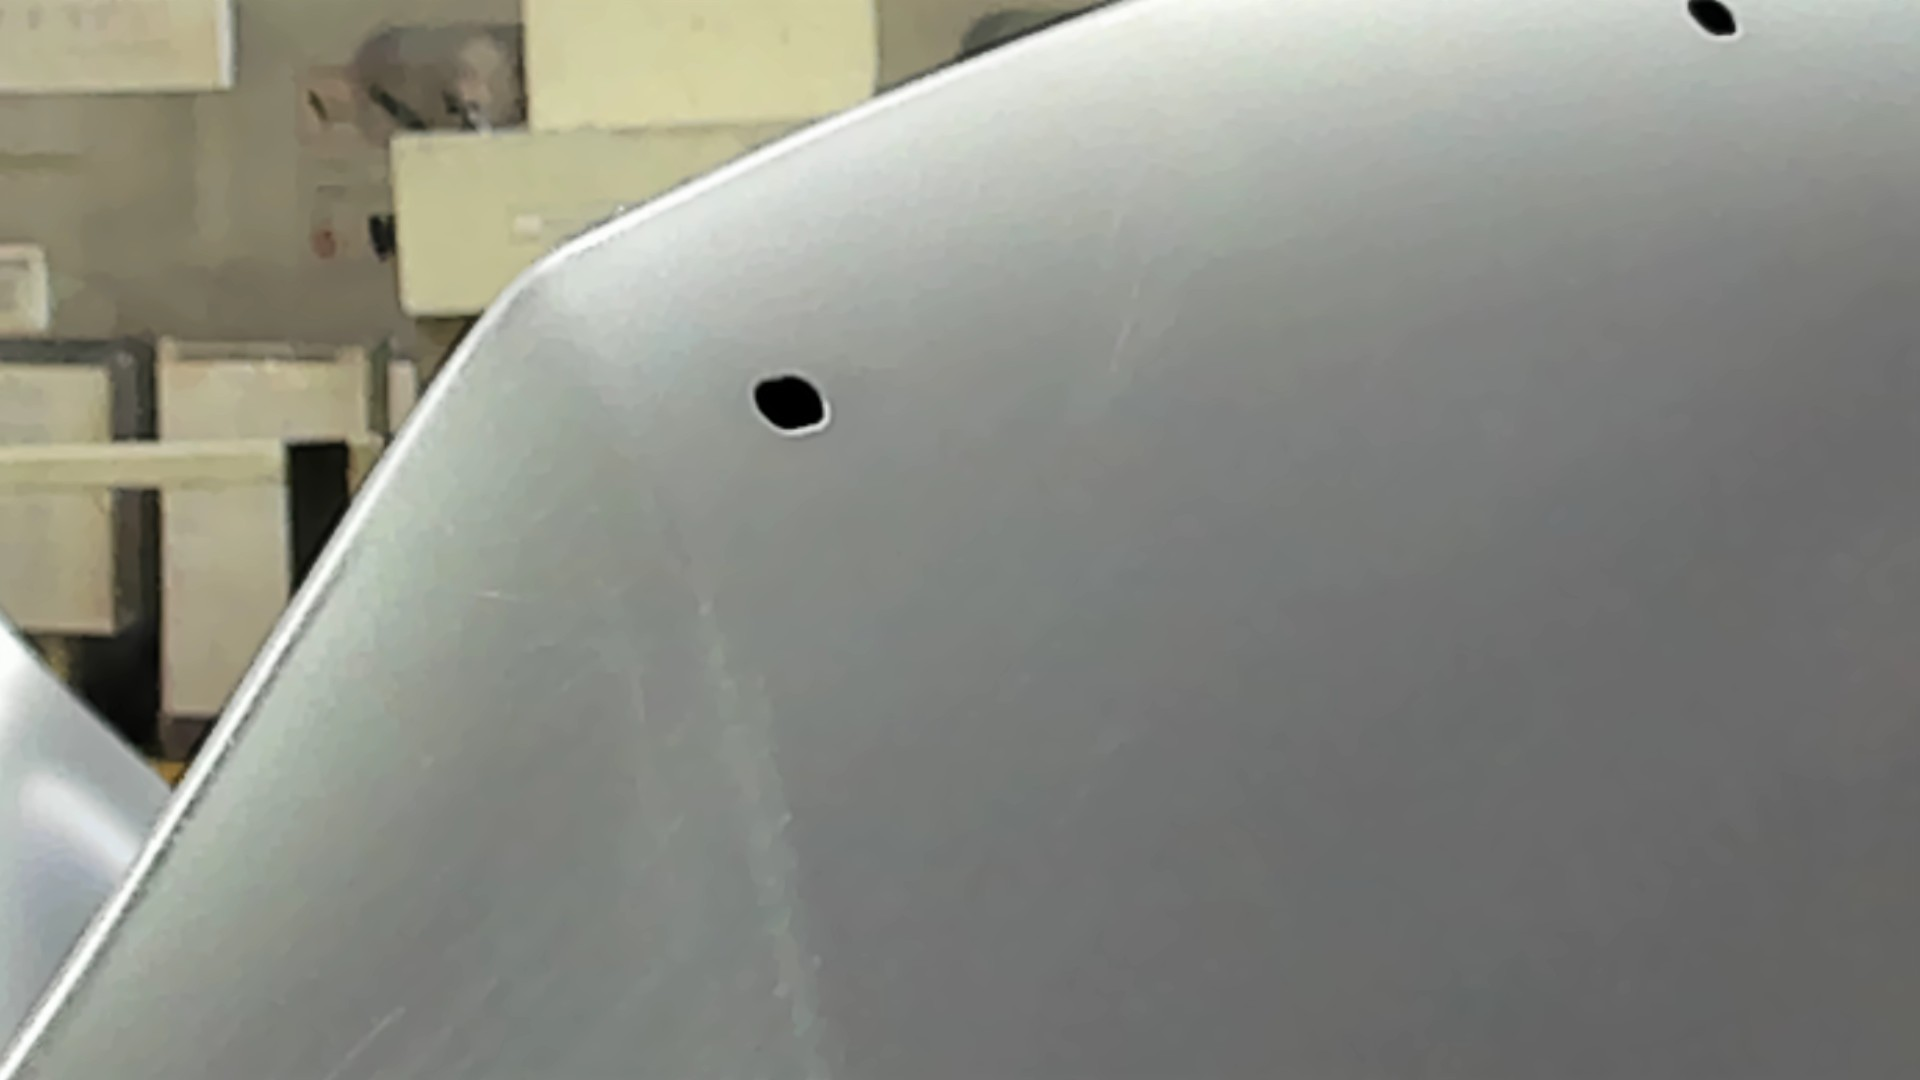amorfo: (748, 365, 832, 436), (1683, 1, 1743, 45)
capo: (884, 109, 1920, 1080)
